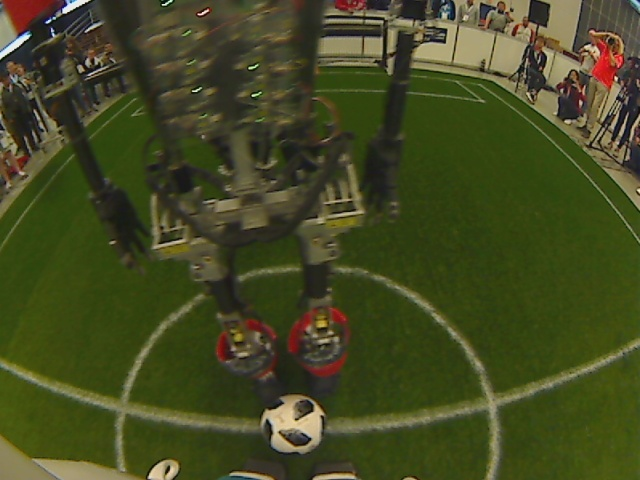ball: (259, 394, 328, 458)
